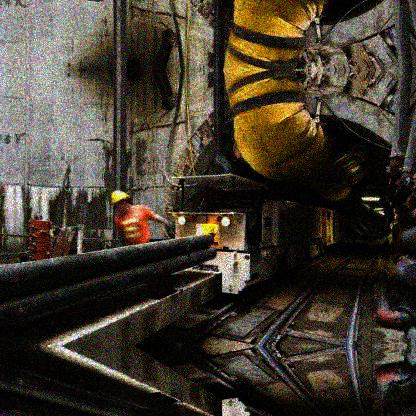helmet: (111, 190, 130, 212)
